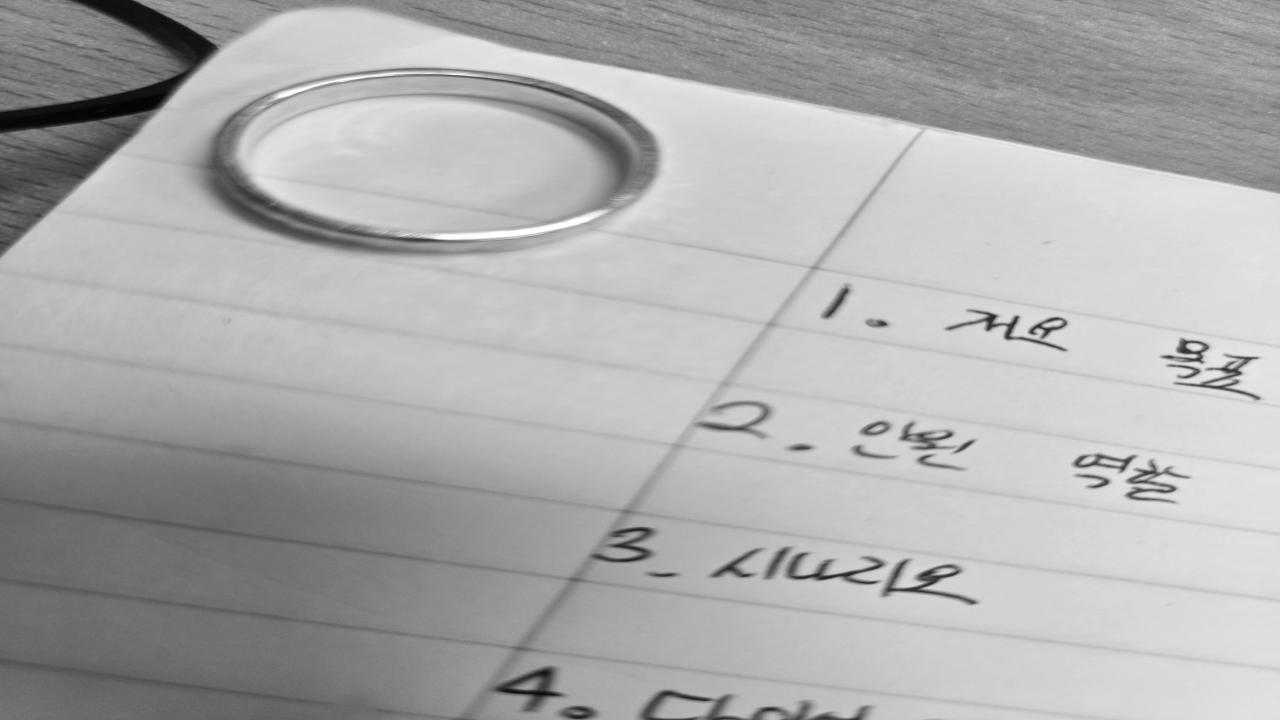ring: (207, 67, 662, 255)
